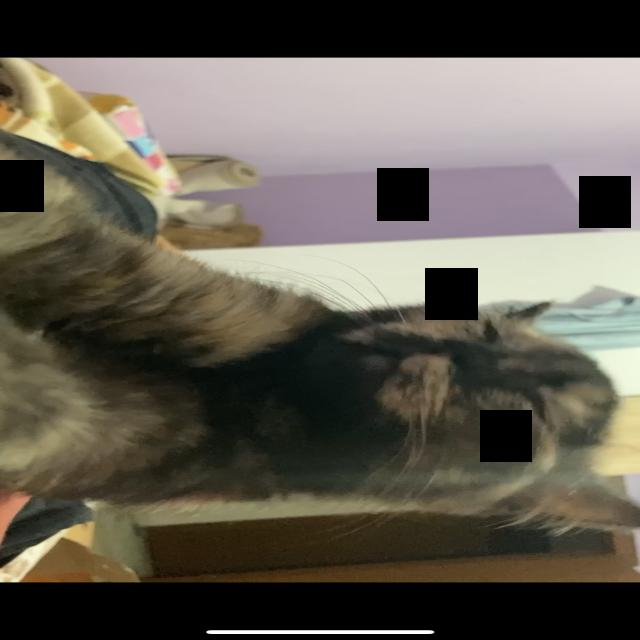authorized: (1, 128, 636, 538)
